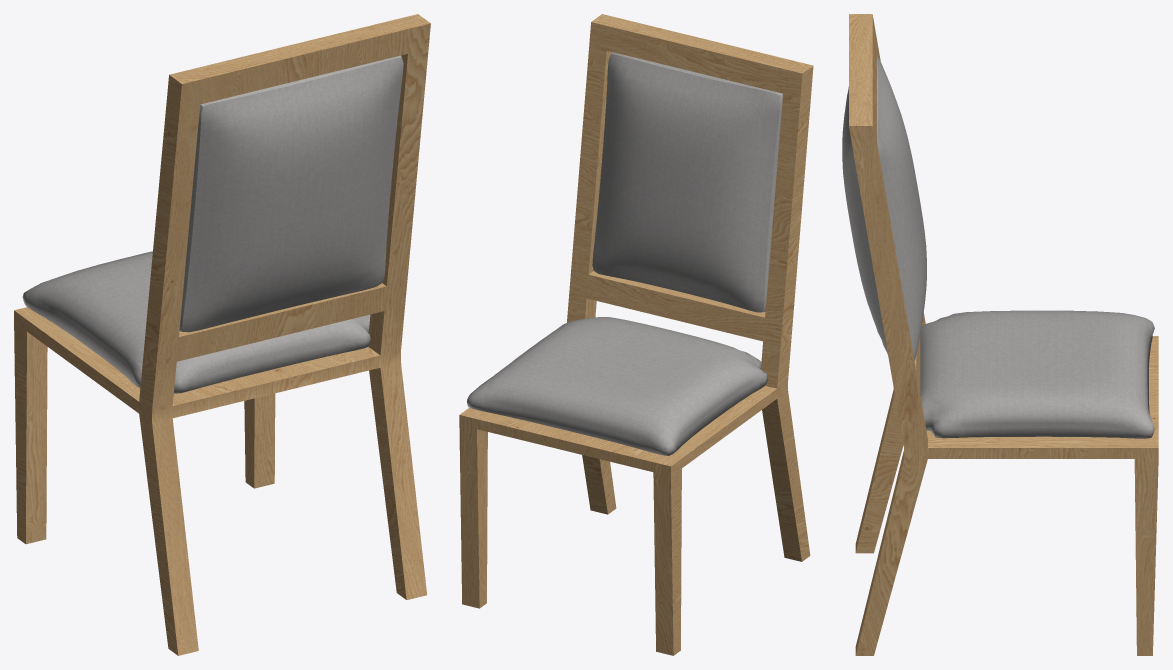
Rendered from Chair03.fbx.
3 renders of one model, left to right at view 1: azimuth 30°, elevation 25°; view 2: azimuth 150°, elevation 25°; view 3: azimuth 270°, elevation 25°, orthographic. The views are drawn at different scales.
Parts seen in each view (by area): view 1: Chair03; view 2: Chair03; view 3: Chair03.
Part boxes in pixels (<box>): Chair03: <box>14,14,430,655</box>; Chair03: <box>459,14,813,655</box>; Chair03: <box>842,14,1158,655</box>.
Size of the model in its own units: 41.07 by 90.56 by 49.01.
